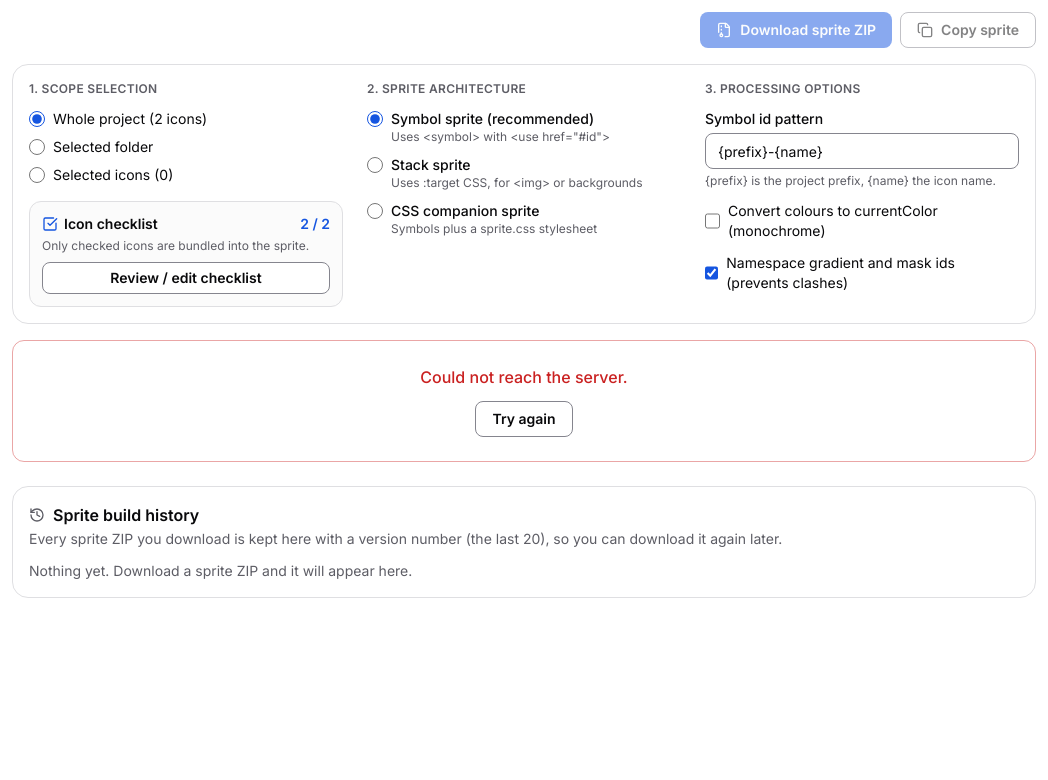
building the sprite › shows an error with a retry
Expected: the message shows "Could not reach the server.", [420,367,628,387]
Click the button "Try again".
click(524, 419)  # box [476,401,573,437]
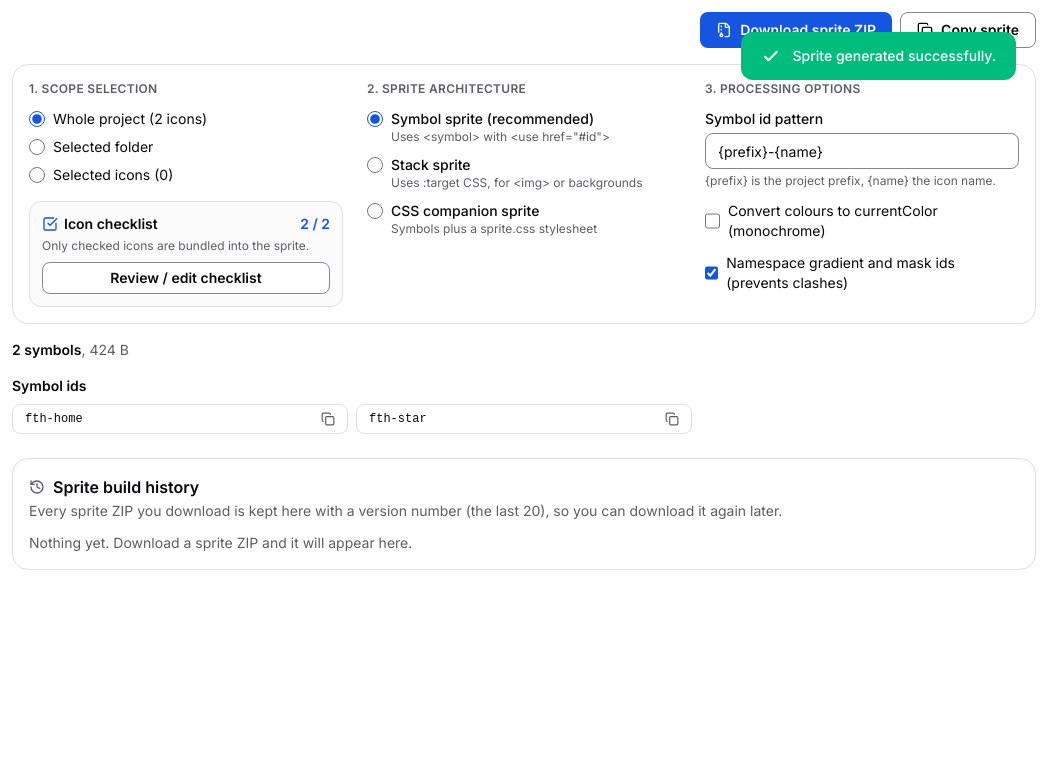
Expected: the text "2 symbols" is shown, [12,341,81,358]
